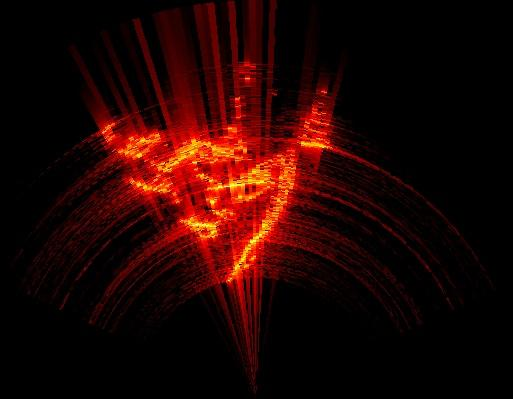shipwreck: (94, 67, 332, 279)
